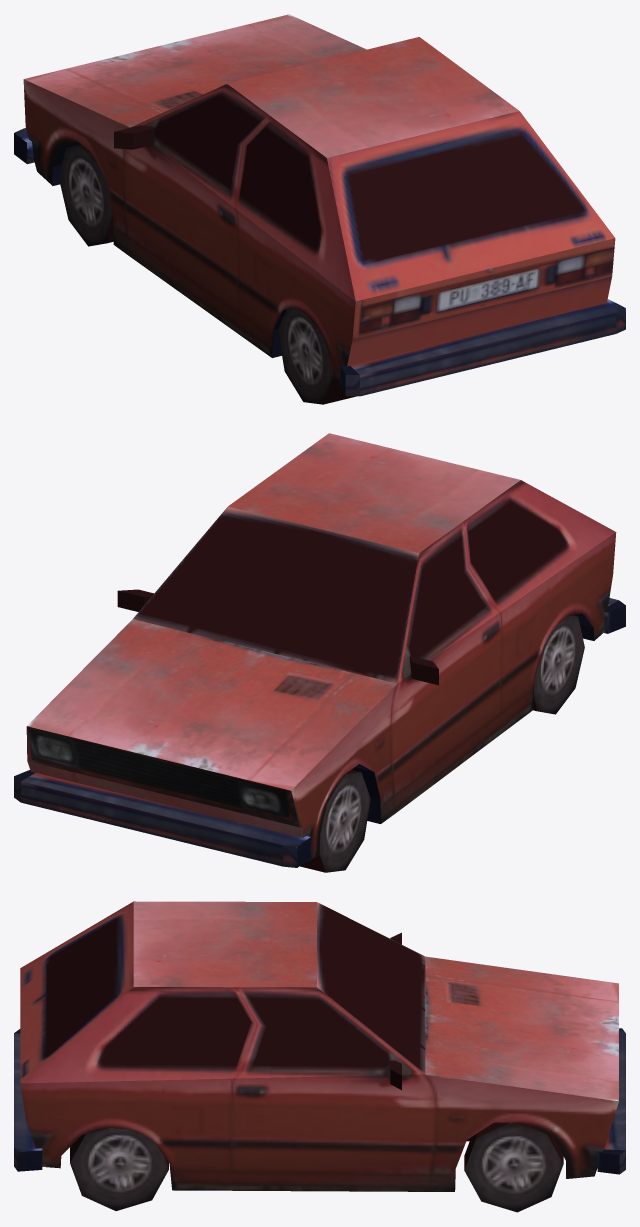
File: CarYugoRed.fbx
3 views of the same model, one above another, from view 1: azimuth 30°, elevation 25°; view 2: azimuth 150°, elevation 25°; view 3: azimuth 270°, elevation 25° (orthographic). The views are drawn at different scales.
Visible parts, largest first — view 1: yugo; view 2: yugo; view 3: yugo.
Boxes of the visible parts, bbox=[...] form: yugo: bbox=[14, 14, 625, 404]; yugo: bbox=[14, 433, 625, 872]; yugo: bbox=[14, 901, 625, 1212].
Size of the model in its own units: 232 by 160 by 420.
